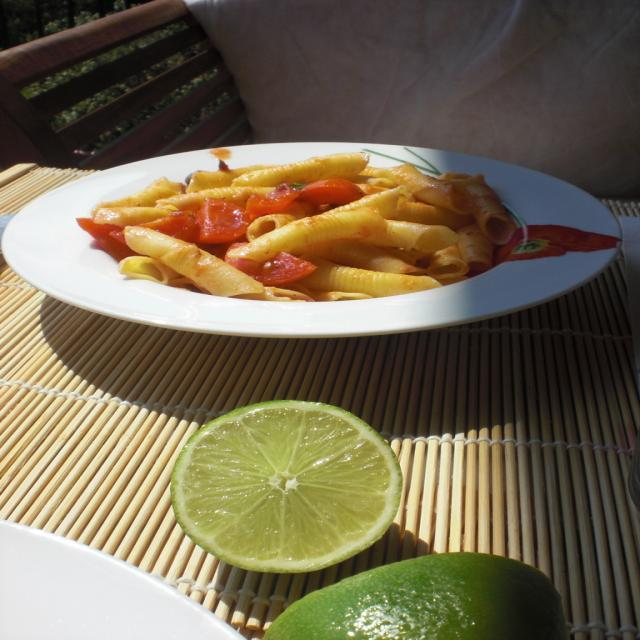Lemon: (171, 398, 406, 574), (254, 550, 566, 640)
